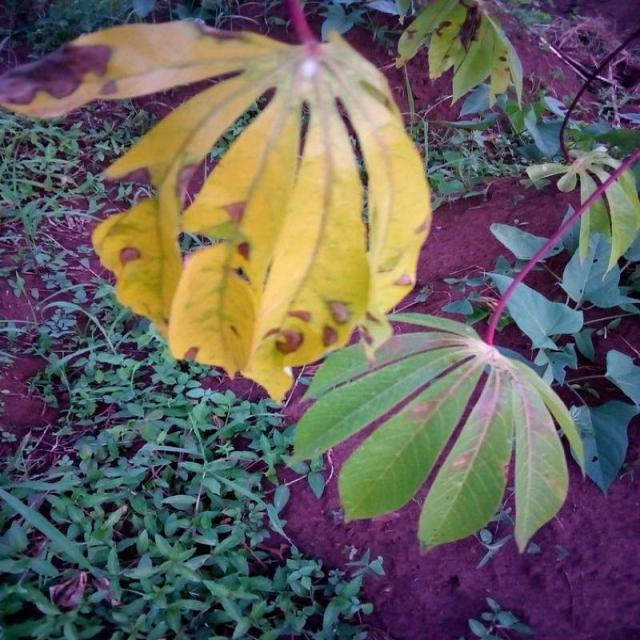cassava leaf: (1, 2, 434, 404)
